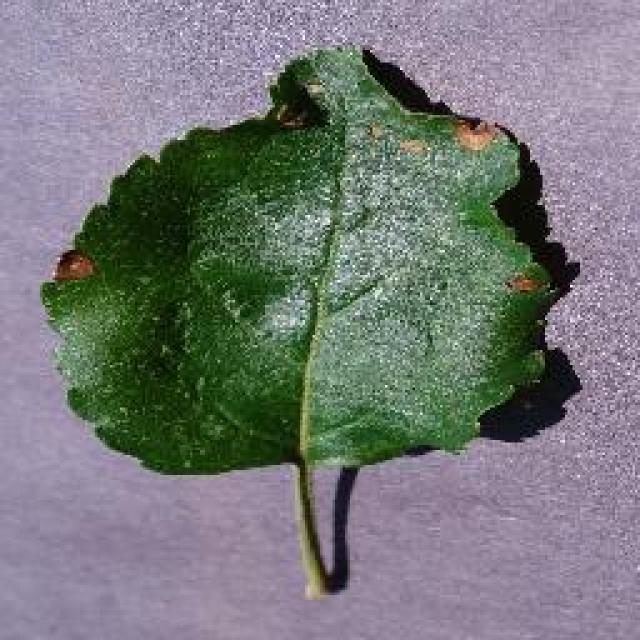apple healthy: (38, 40, 580, 598)
